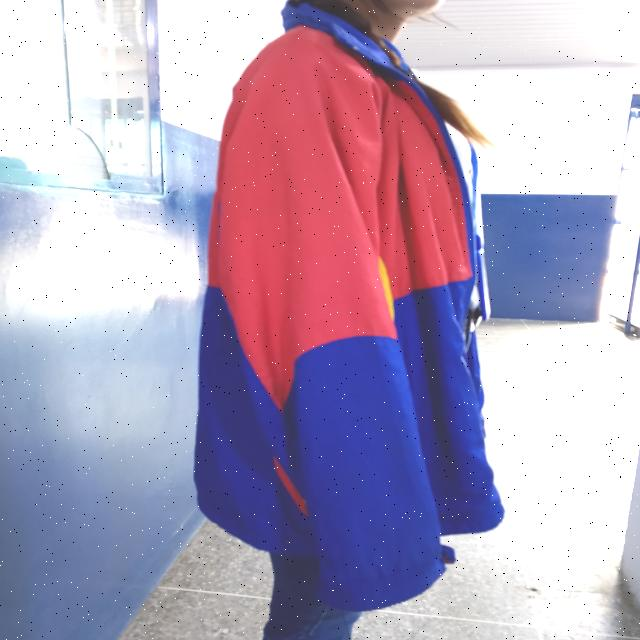chaqueta_unefa: (192, 0, 506, 610)
